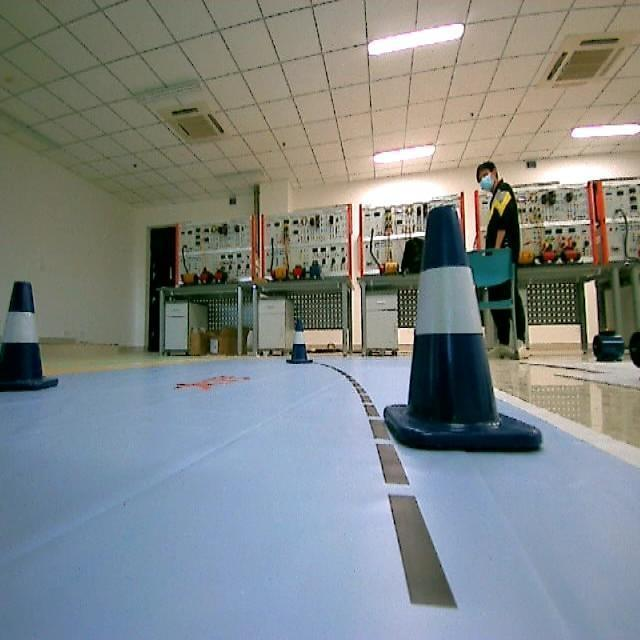obstacle: (360, 201, 549, 458), (0, 280, 62, 392), (282, 316, 316, 369)
